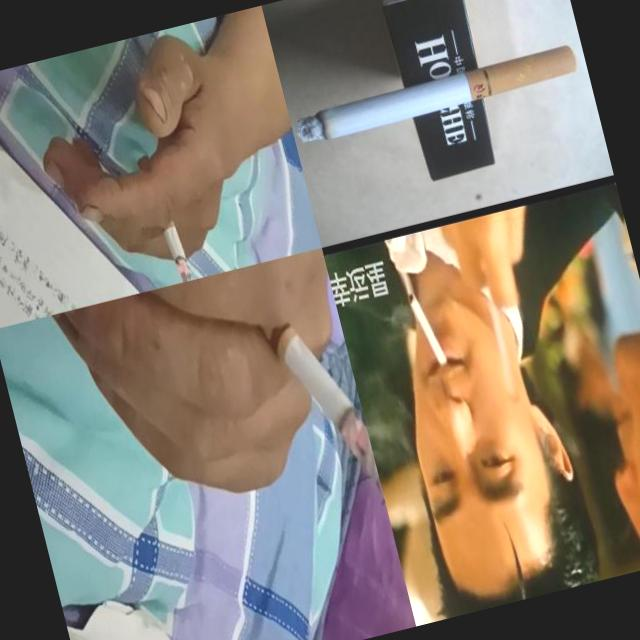smoke: (246, 269, 387, 532), (289, 42, 582, 148), (134, 147, 196, 286), (403, 287, 454, 388)
